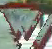Give way: (0, 1, 47, 48)
